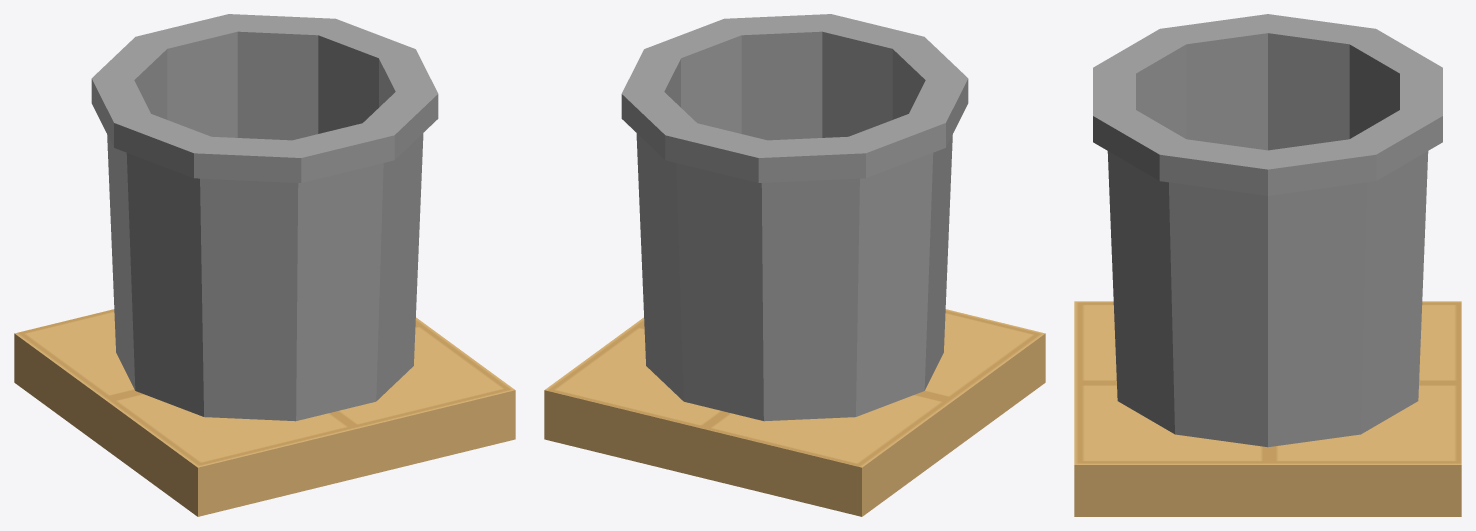
File: trash.fbx
3 renders of one model, left to right at view 1: azimuth 30°, elevation 25°; view 2: azimuth 150°, elevation 25°; view 3: azimuth 270°, elevation 25°, orthographic. The views are drawn at different scales.
Visible parts, largest first — view 1: pCylinder1, pCube1; view 2: pCylinder1, pCube1; view 3: pCylinder1, pCube1.
Boxes of the visible parts, x1,y1,x2,y2 form: pCylinder1: [91, 14, 438, 421]; pCube1: [14, 309, 515, 516]; pCylinder1: [621, 14, 968, 421]; pCube1: [544, 309, 1045, 516]; pCylinder1: [1093, 14, 1442, 447]; pCube1: [1074, 301, 1461, 516].
Size of the model in its own units: 1.98 by 1.94 by 1.98.
